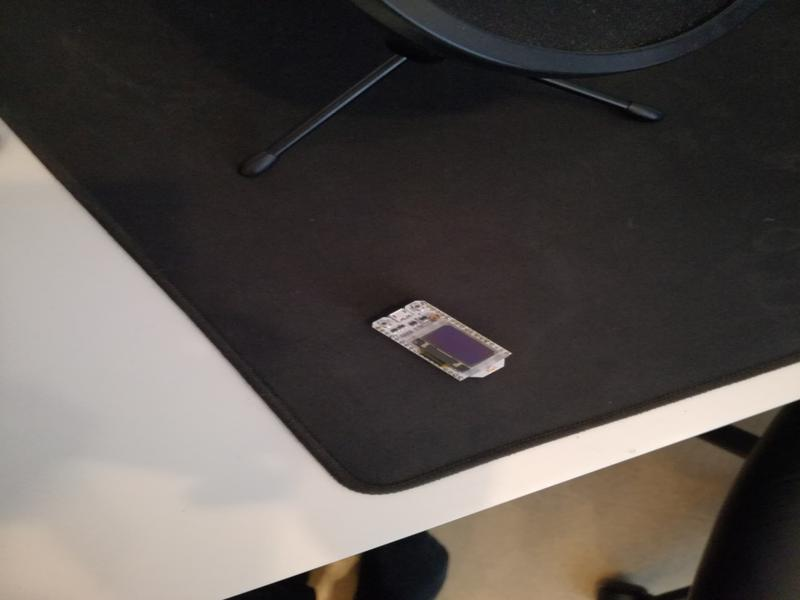Heltec_ESP32_Lora: (369, 297, 516, 384)
